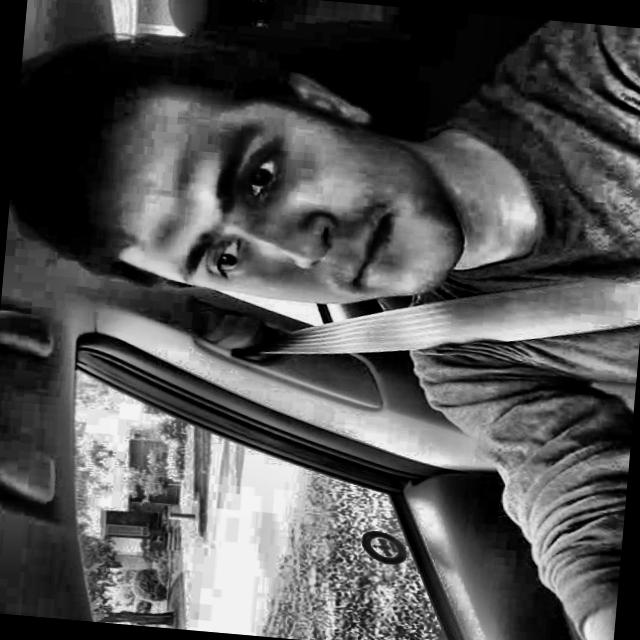closed_mouth: (334, 185, 406, 311)
open_eyes: (227, 136, 292, 216), (194, 222, 254, 298)
